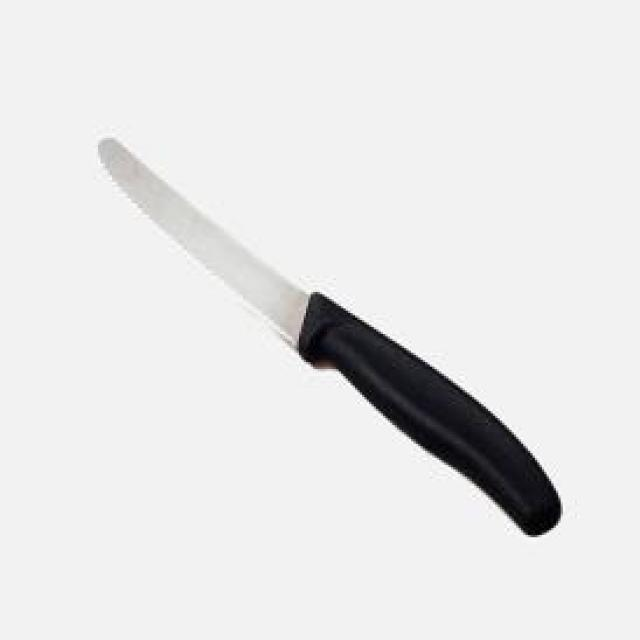knife: (94, 136, 566, 544)
